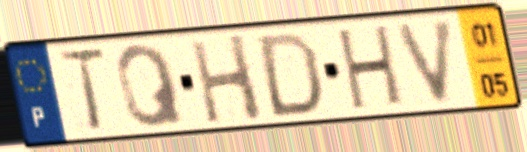D: (256, 29, 325, 120)
H: (186, 31, 267, 126), (336, 21, 406, 114)
Q: (112, 41, 189, 131)
T: (54, 44, 110, 135)
V: (392, 15, 459, 108)
